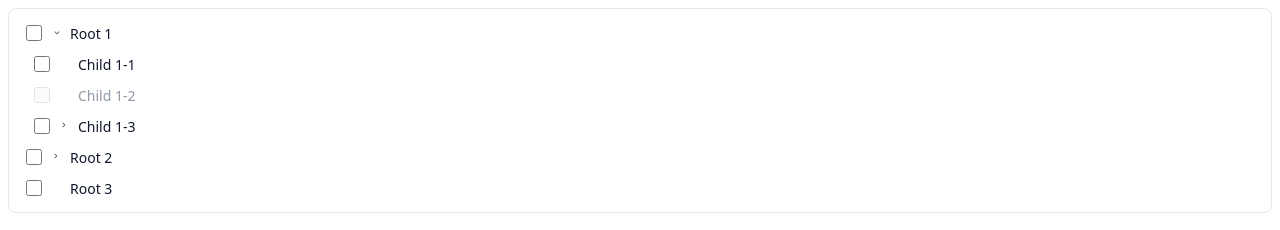
Tree › checks a parent and cascades to descendants
Click the checkbox named "Select Root 1" at (34, 33), box [26,25,42,41]
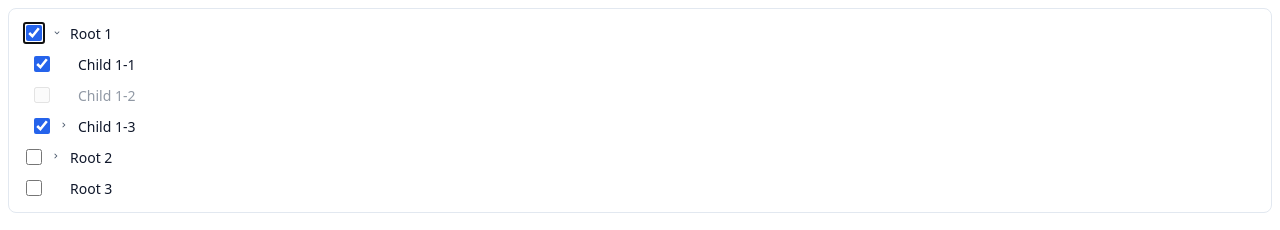
Expected: the checkbox named "Select Child 1-1" is checked, [34,56,50,72]
